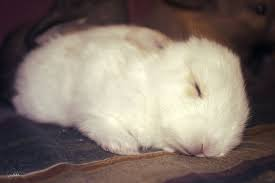bunny: (8, 14, 253, 167)
